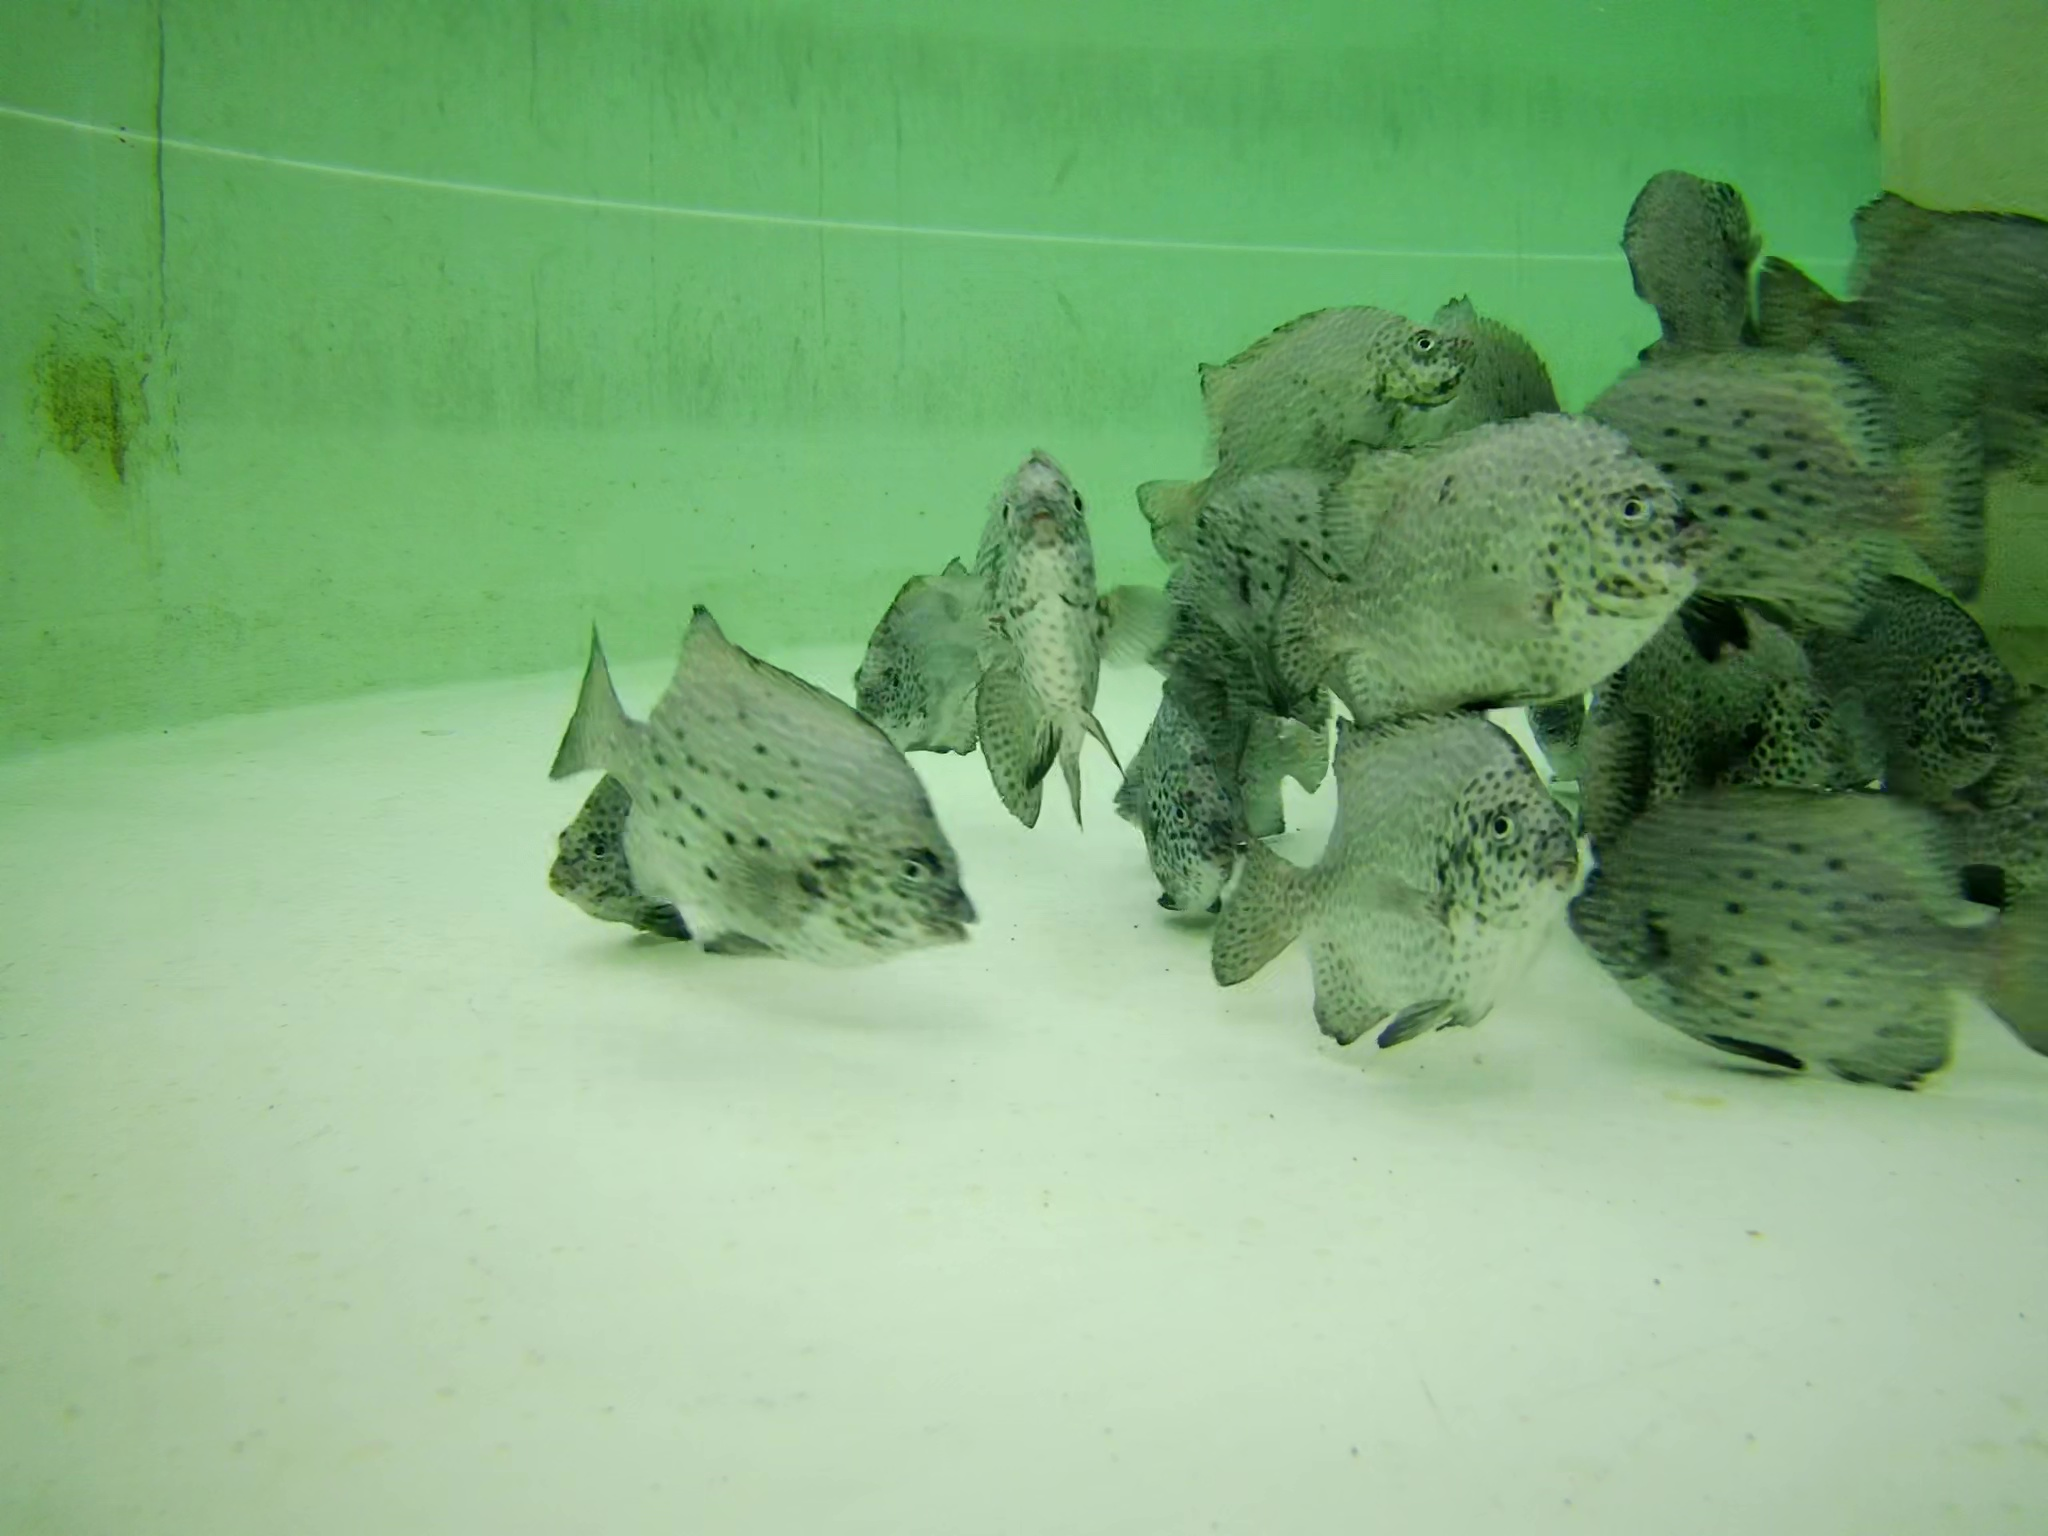fish: (547, 599, 974, 968), (1551, 786, 2009, 1089), (1261, 418, 1713, 720), (1180, 718, 1577, 1055), (1574, 332, 1988, 611), (1746, 190, 2048, 495), (1126, 297, 1484, 549), (966, 432, 1111, 800), (1798, 574, 2014, 789), (1624, 620, 1830, 794), (1118, 645, 1243, 913), (850, 544, 982, 750), (1617, 161, 1751, 352), (543, 771, 671, 939), (1574, 674, 1658, 850)
